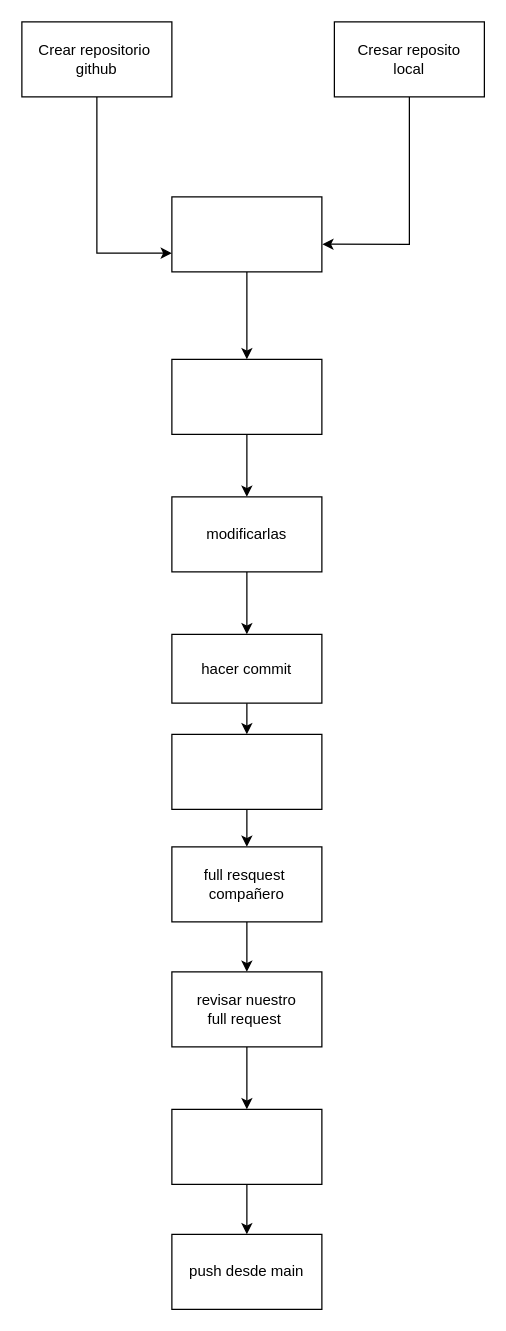
Some shapes in this 506 by 1331 pixel diagram are drawn without their labels. Here are the shapes that lost their labels. From the top down, the centre of each, then its label:
At [246,234]: "unirlos".
At [246,396]: "crear ramas".
At [246,771]: "subirlo a gituhb".
At [246,1146]: "merge main desarrolo".
